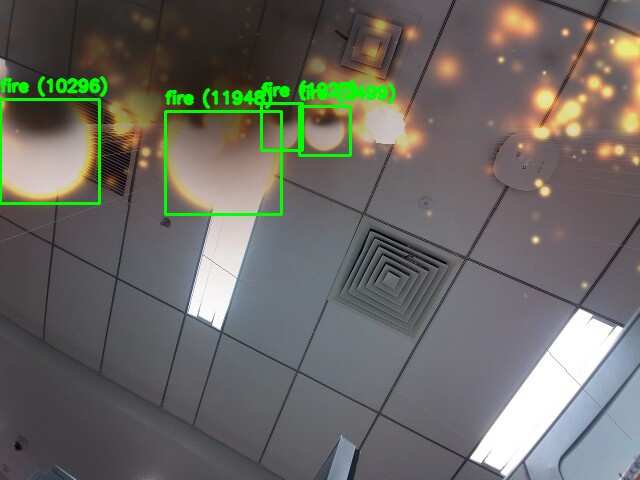fire: (165, 111, 281, 214), (0, 99, 99, 203), (299, 106, 350, 155), (261, 103, 302, 150)
